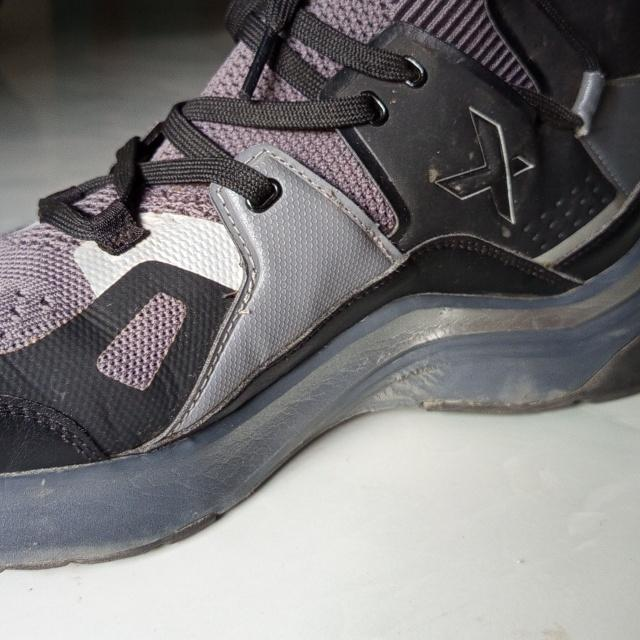broken-error: (323, 184, 344, 215)
